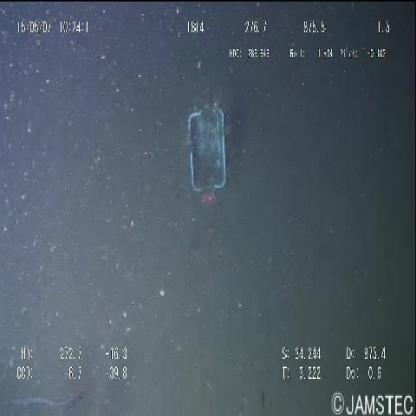Rác: (179, 88, 234, 212)
